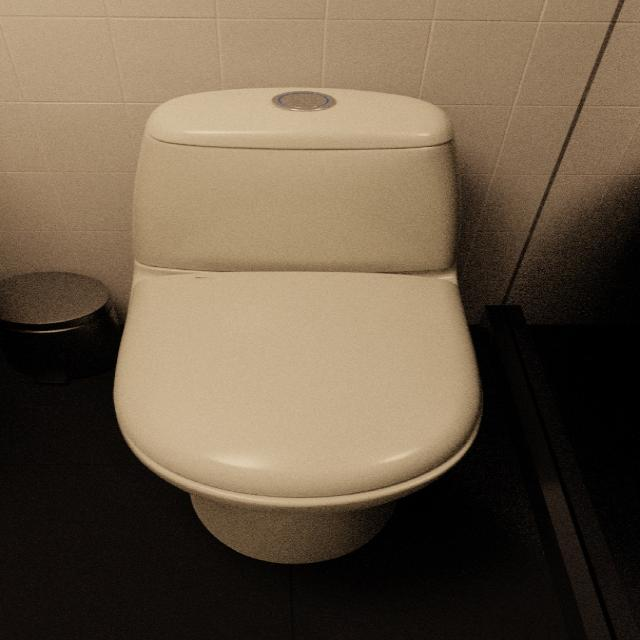toilet: (105, 80, 493, 575)
